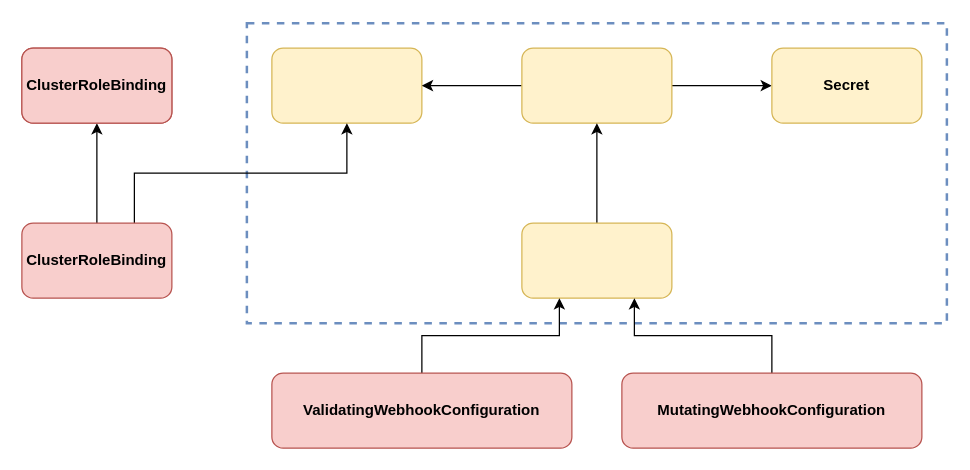
The diagram is 970 pixels wide and 470 high, and some of its shapes have lost their labels. The shapes that lost their labels are listed below. From the top down, each one's centre as x and y in pixels, then its label:
At (346,85): "ServiceAccount".
At (596,85): "Deployment".
At (596,260): "Service".
